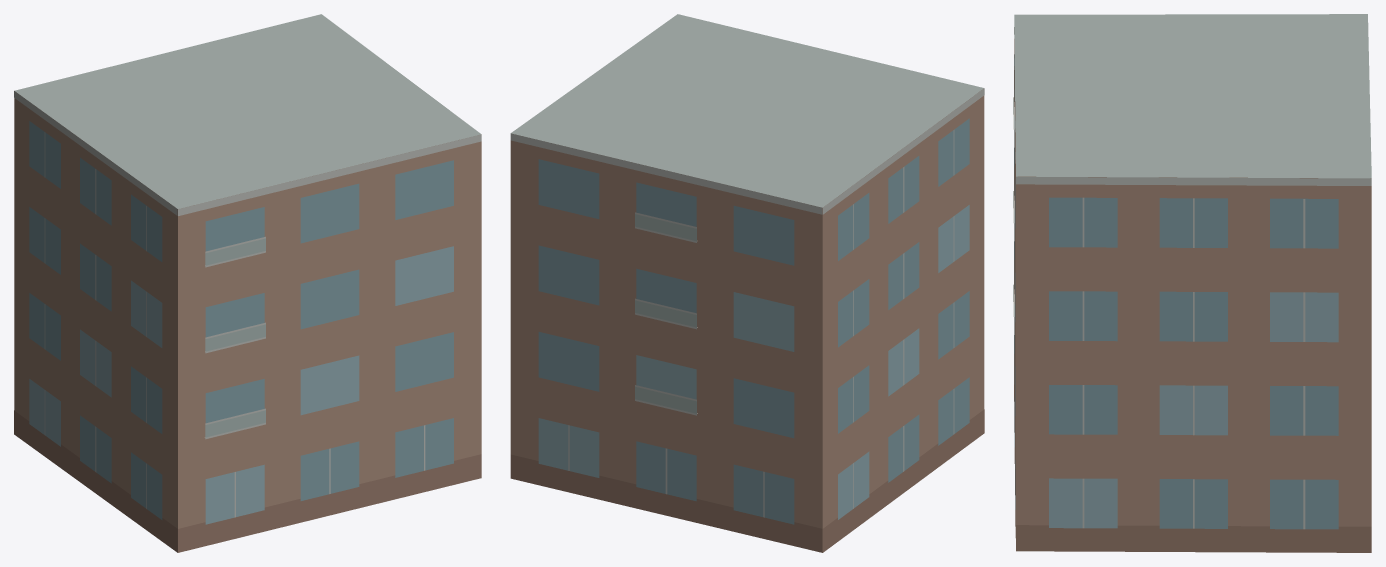
The model's file is survey-upis-32878921.glb.
3 renders of one model, left to right at view 1: azimuth 30°, elevation 25°; view 2: azimuth 150°, elevation 25°; view 3: azimuth 270°, elevation 25°, orthographic. The views are drawn at different scales.
Parts seen in each view (by area): view 1: survey-upis-32878921.tmp; view 2: survey-upis-32878921.tmp; view 3: survey-upis-32878921.tmp.
Part boxes in pixels (x1,y1,x2,y2): survey-upis-32878921.tmp: (14,14,481,552); survey-upis-32878921.tmp: (510,14,984,552); survey-upis-32878921.tmp: (1013,14,1371,552).
Size of the model in its own units: 11.16 by 11.85 by 10.3.
